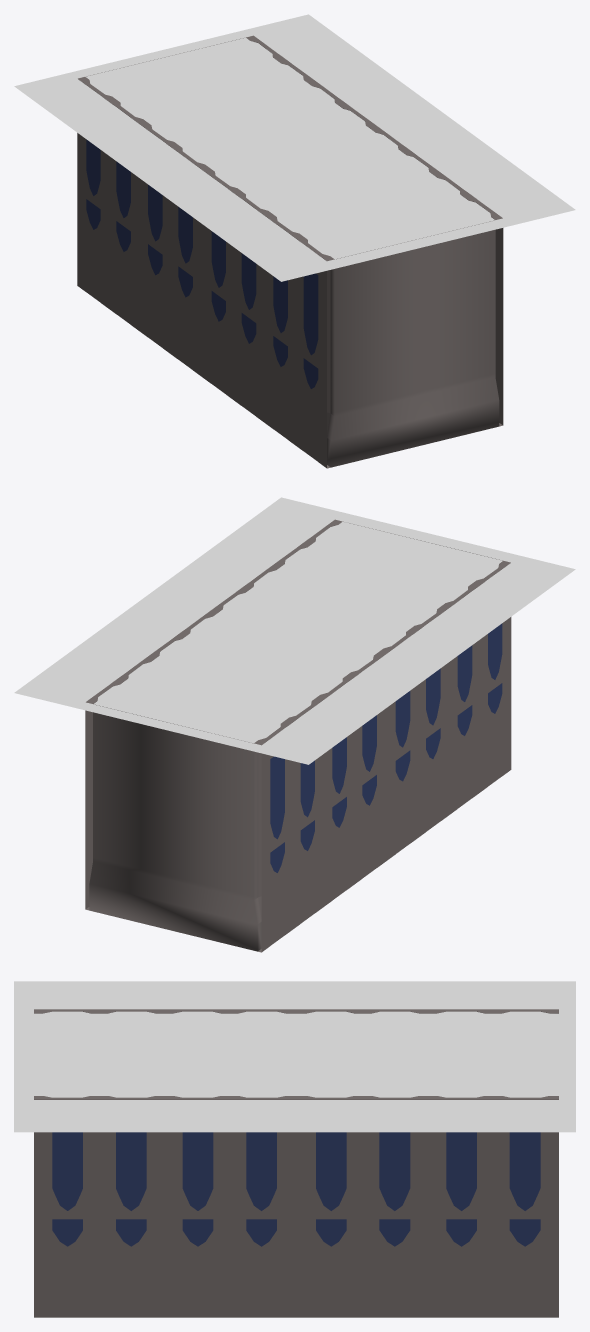
Rendered from room.fbx.
3 renders of one model, top to bottom at view 1: azimuth 30°, elevation 25°; view 2: azimuth 150°, elevation 25°; view 3: azimuth 270°, elevation 25°, orthographic. The views are drawn at different scales.
Visible parts, largest first — view 1: Cube, Plane; view 2: Cube, Plane; view 3: Cube, Plane.
Part boxes in pixels (bbox=[...]): Cube: bbox=[77, 35, 503, 468]; Plane: bbox=[14, 14, 575, 281]; Cube: bbox=[85, 519, 511, 952]; Plane: bbox=[14, 497, 575, 764]; Cube: bbox=[34, 1009, 558, 1317]; Plane: bbox=[14, 981, 575, 1132].
Bounding box in the file's own units: 11000 × 7397 × 17276.
